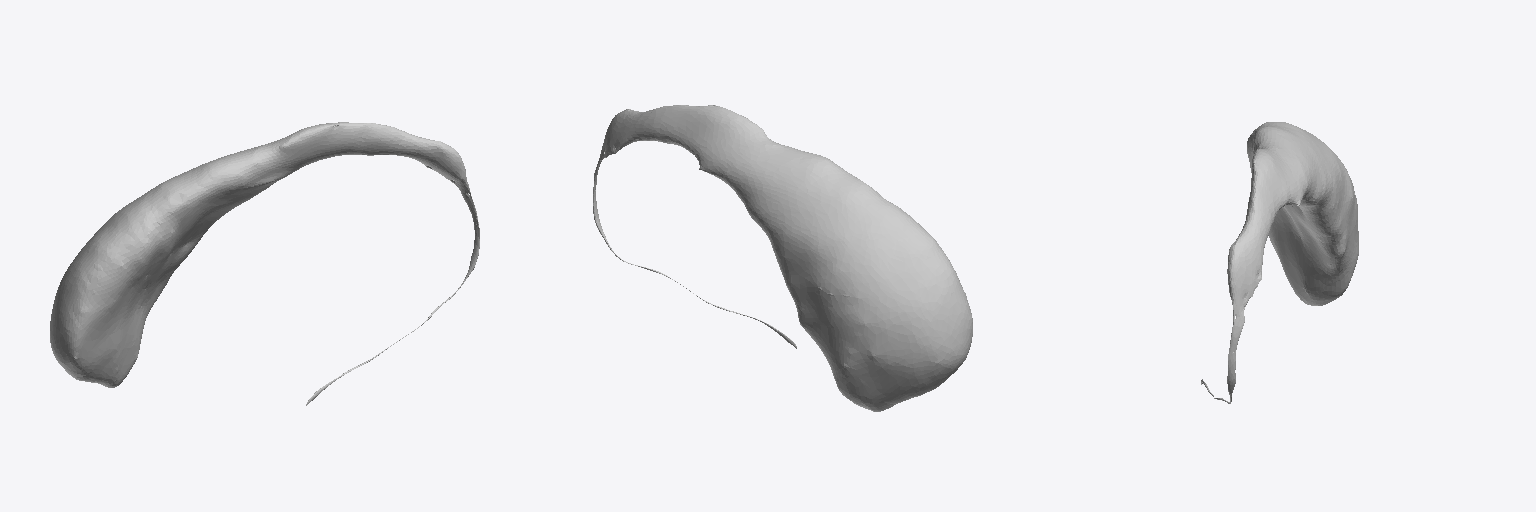
Rendered from L-Caudate.obj.
3 views of the same model, side by side, from view 1: azimuth 30°, elevation 25°; view 2: azimuth 150°, elevation 25°; view 3: azimuth 270°, elevation 25° (orthographic).
Parts seen in each view (by area): view 1: L-caudate_caudate-nucleus; view 2: L-caudate_caudate-nucleus; view 3: L-caudate_caudate-nucleus.
Boxes of the visible parts, box(x1,y1,x2,y2) form: L-caudate_caudate-nucleus: box(50, 122, 479, 405); L-caudate_caudate-nucleus: box(593, 105, 972, 411); L-caudate_caudate-nucleus: box(1201, 122, 1358, 403).
Bounding box in the file's own units: 89.82 × 54.17 × 31.06.